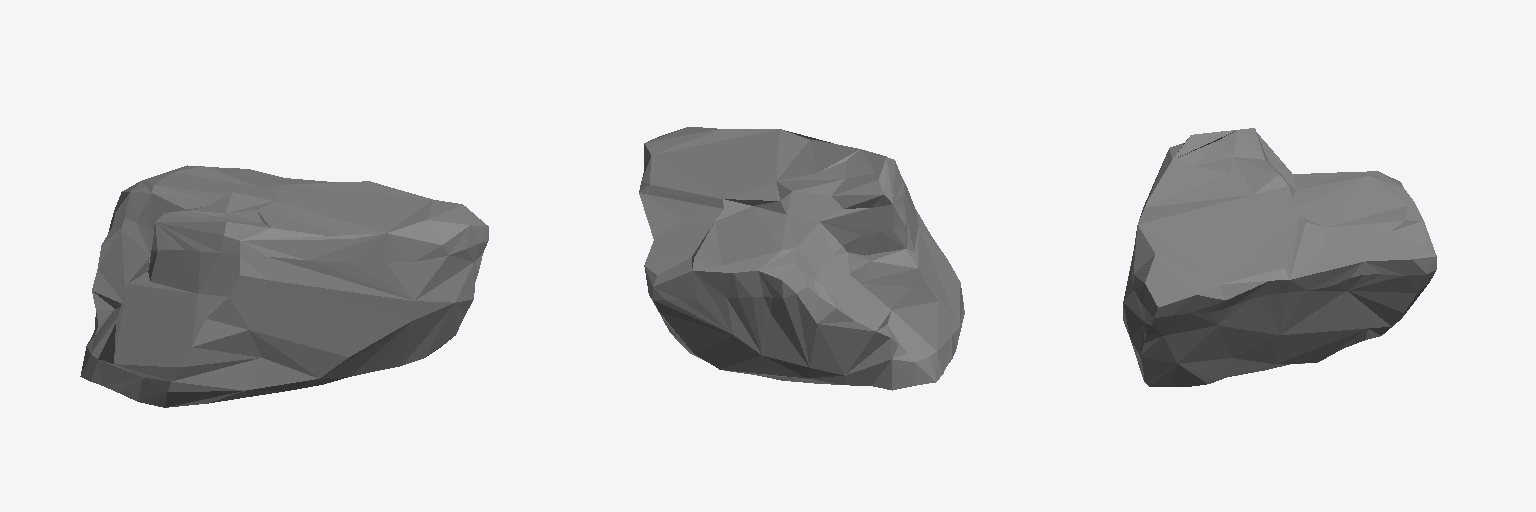
The model's file is rock02.obj.
3 views of the same model, side by side, from view 1: azimuth 30°, elevation 25°; view 2: azimuth 150°, elevation 25°; view 3: azimuth 270°, elevation 25° (orthographic).
Visible parts, largest first — view 1: ROCK_001; view 2: ROCK_001; view 3: ROCK_001.
Boxes of the visible parts, x1=… form: ROCK_001: x1=80, y1=165, x2=488, y2=407; ROCK_001: x1=639, y1=127, x2=964, y2=390; ROCK_001: x1=1123, y1=128, x2=1436, y2=386.
Size of the model in its own units: 3.22 by 1.52 by 2.55.